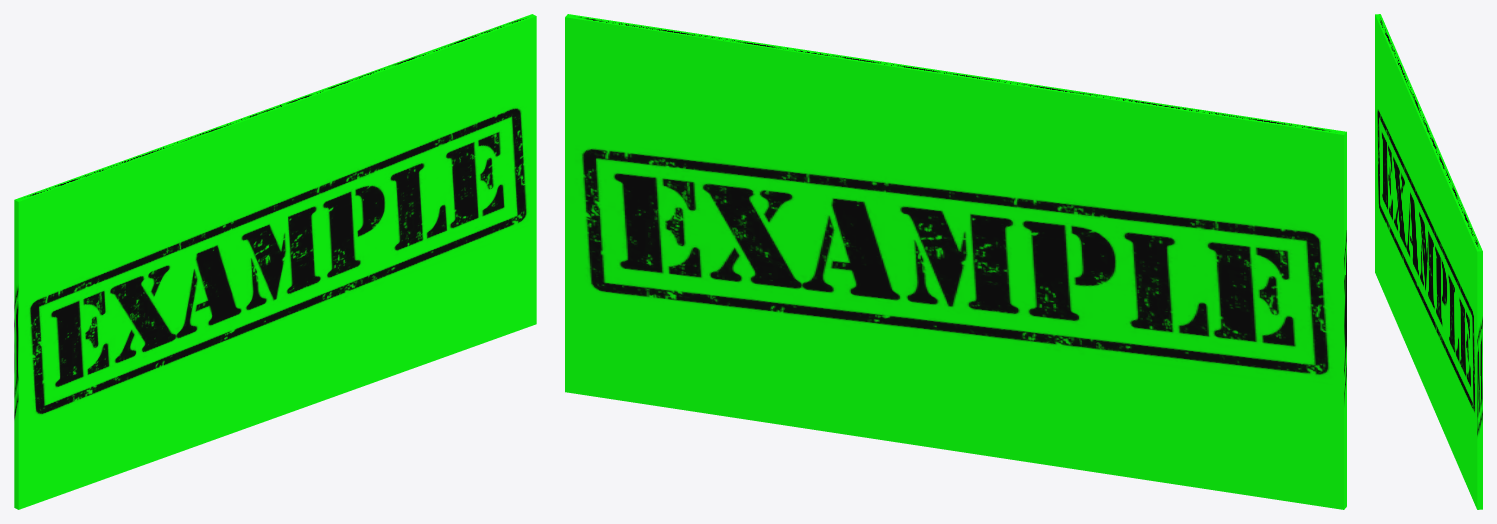
File: exportedShape.glb
The picture shows the model from 3 angles, left to right: view 1: azimuth 30°, elevation 25°; view 2: azimuth 150°, elevation 25°; view 3: azimuth 270°, elevation 25°; orthographic projection. The views are drawn at different scales.
Size of the model in its own units: 9.86 by 5 by 1.89.
Materials: 1 (1 with a texture image).
